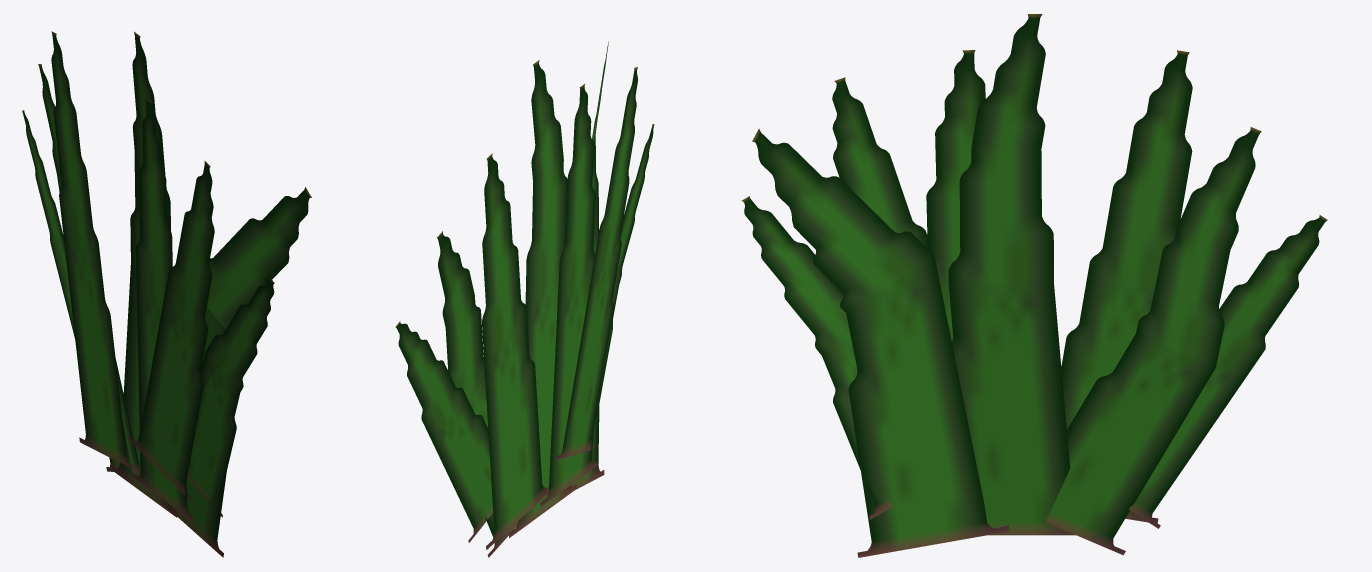
File: Mato2.fbx
3 renders of one model, left to right at view 1: azimuth 30°, elevation 25°; view 2: azimuth 150°, elevation 25°; view 3: azimuth 270°, elevation 25°, orthographic. The views are drawn at different scales.
Parts seen in each view (by area): view 1: Mato2; view 2: Mato2; view 3: Mato2.
Boxes of the visible parts, x1,y1,x2,y2 form: Mato2: (22,31,311,557); Mato2: (395,41,654,557); Mato2: (741,14,1327,557).
Bounding box in the file's own units: 42.01 × 204 × 228.
